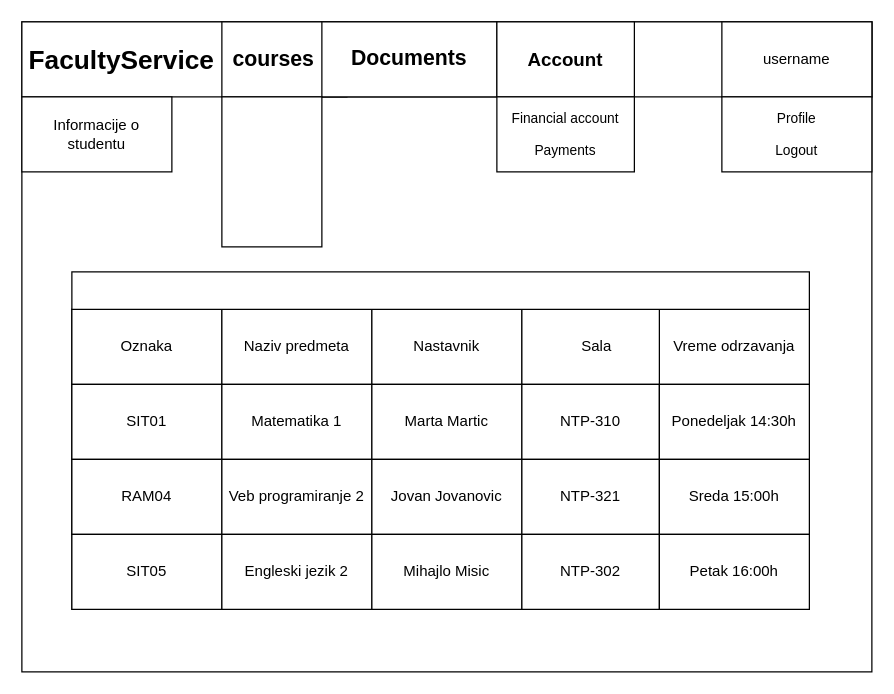
Image size: 894x694. Some labels were removed from this diagram. Each missing label, with the box of its shape:
Passed exams Register exams Failed exams Courses: (221, 96, 322, 247)
Prikaz mojih predmeta: (71, 271, 809, 309)
